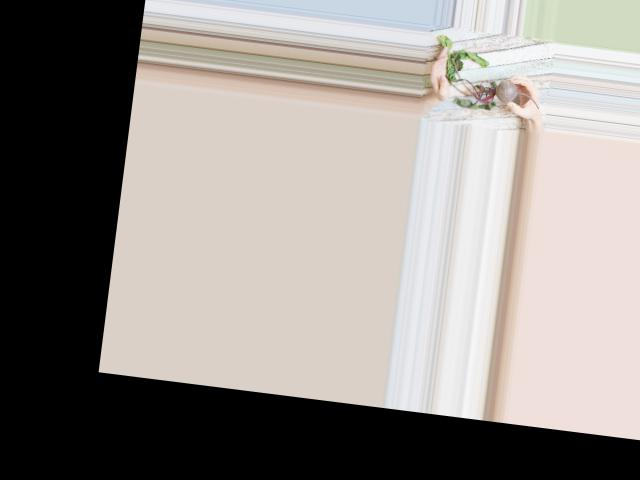beet: (429, 34, 547, 116)
